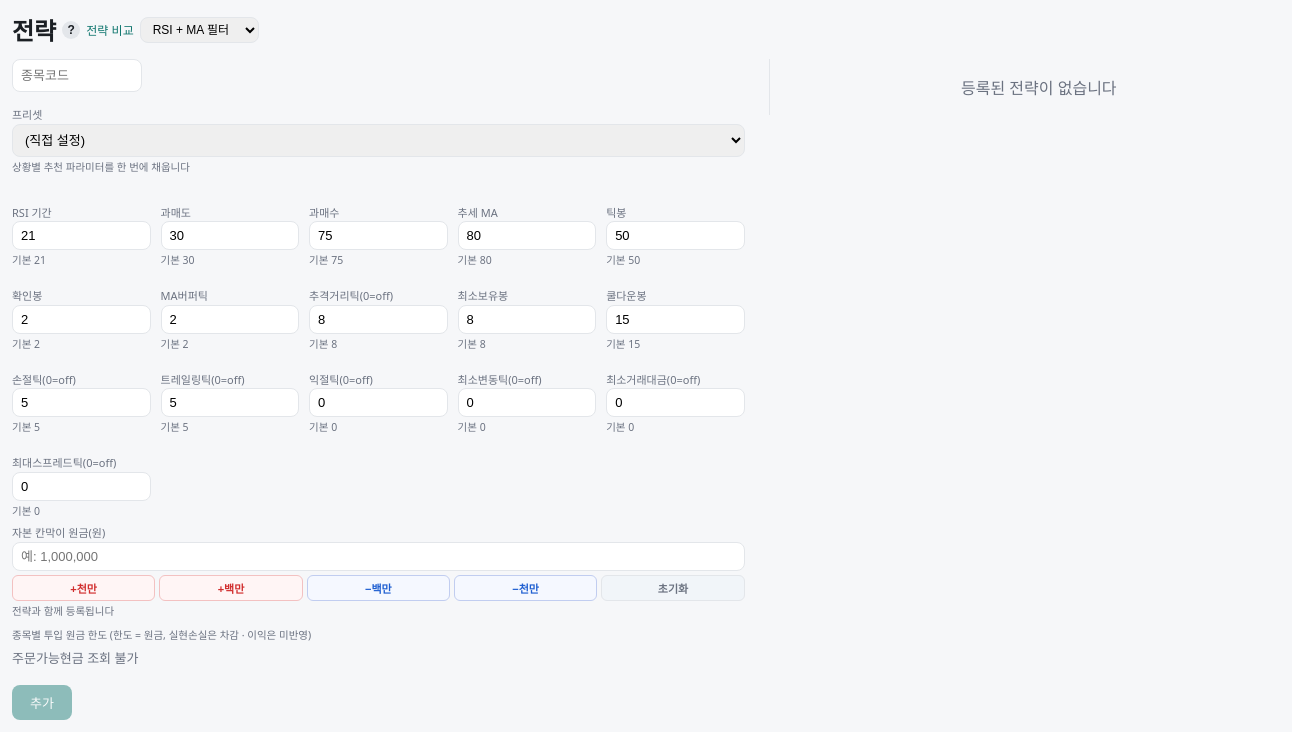
Test: StrategyPanel › 원금 ± 도움 버튼: +천만/−백만/초기화
This screenshot has width=1292, height=732.
Click the button "+천만" at (84, 588), box [12,574,155,600]
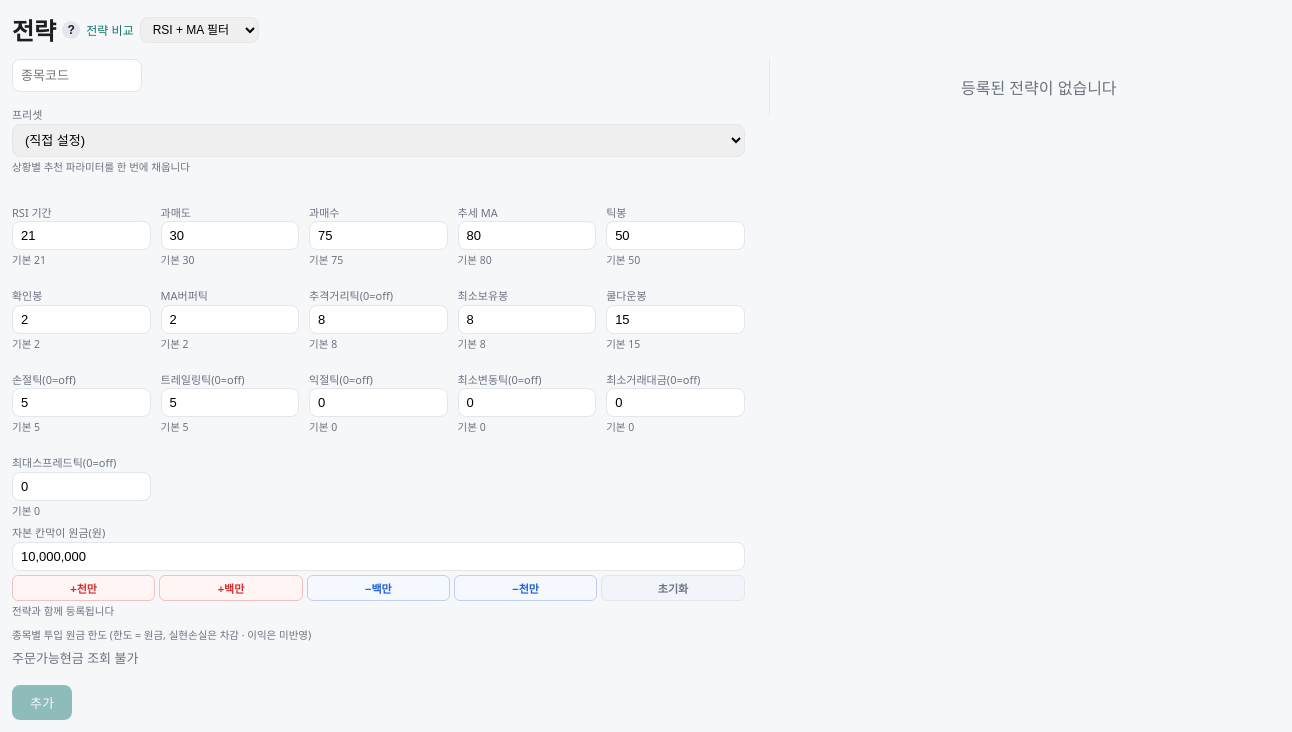
Expected: the field labelled "자본 칸막이 원금" holds "10,000,000", [12,542,745,570]
Click the button "+백만" at (231, 588), box [159,574,303,600]
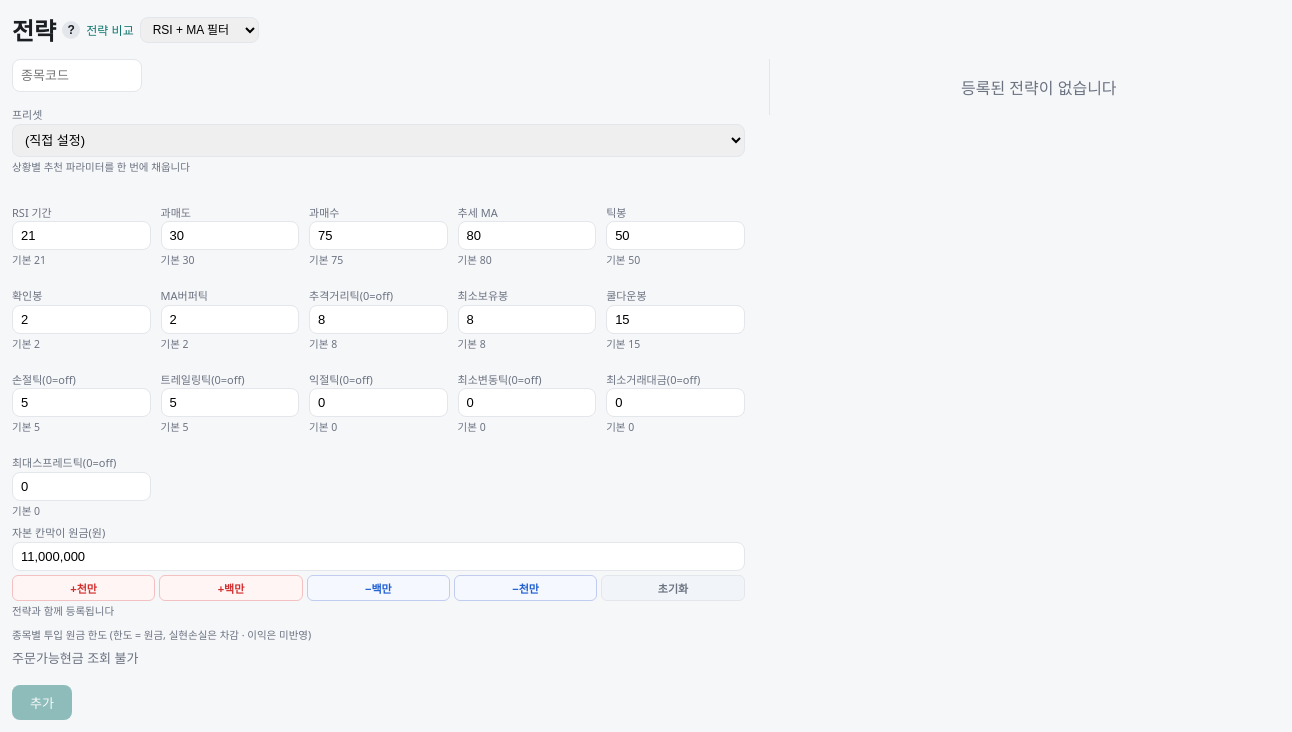
Expected: the field labelled "자본 칸막이 원금" holds "11,000,000", [12,542,745,570]
Click the button "−백만" at (378, 588), box [307,574,450,600]
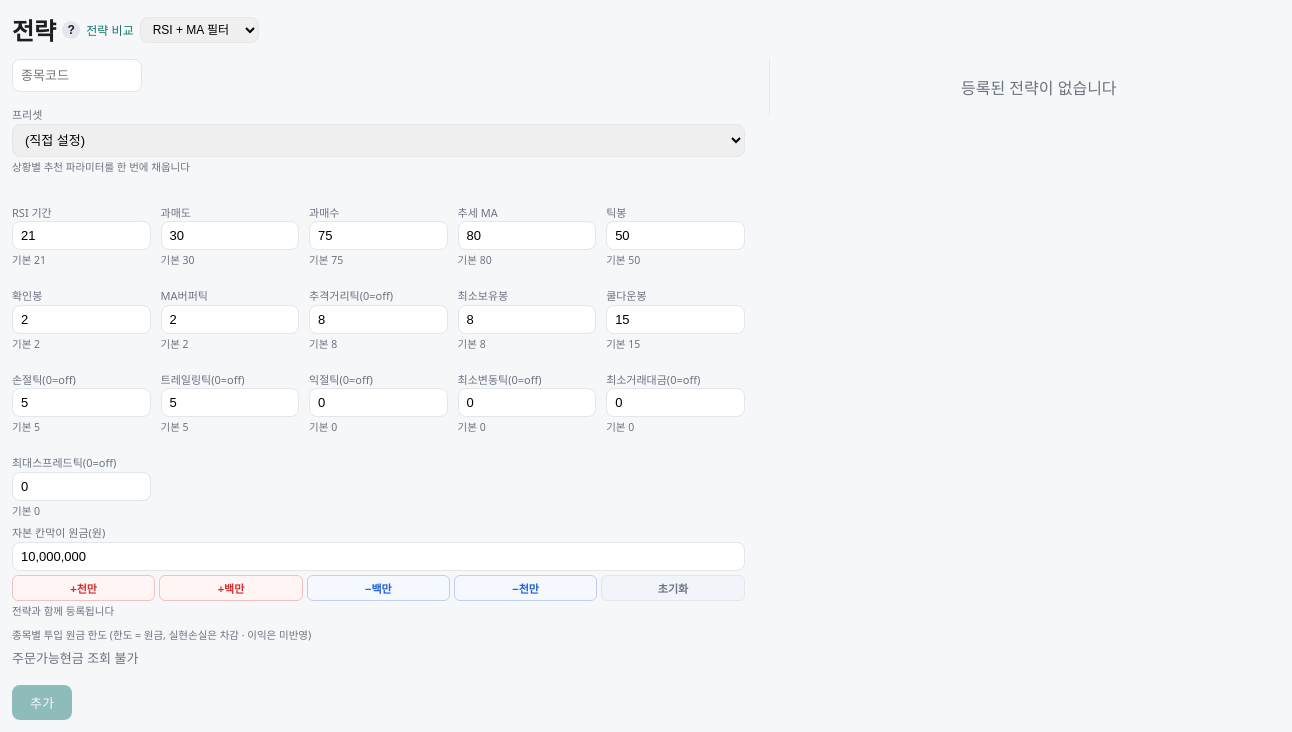
Expected: the field labelled "자본 칸막이 원금" holds "10,000,000", [12,542,745,570]
Click the button "초기화" at (673, 588), box [601,574,745,600]
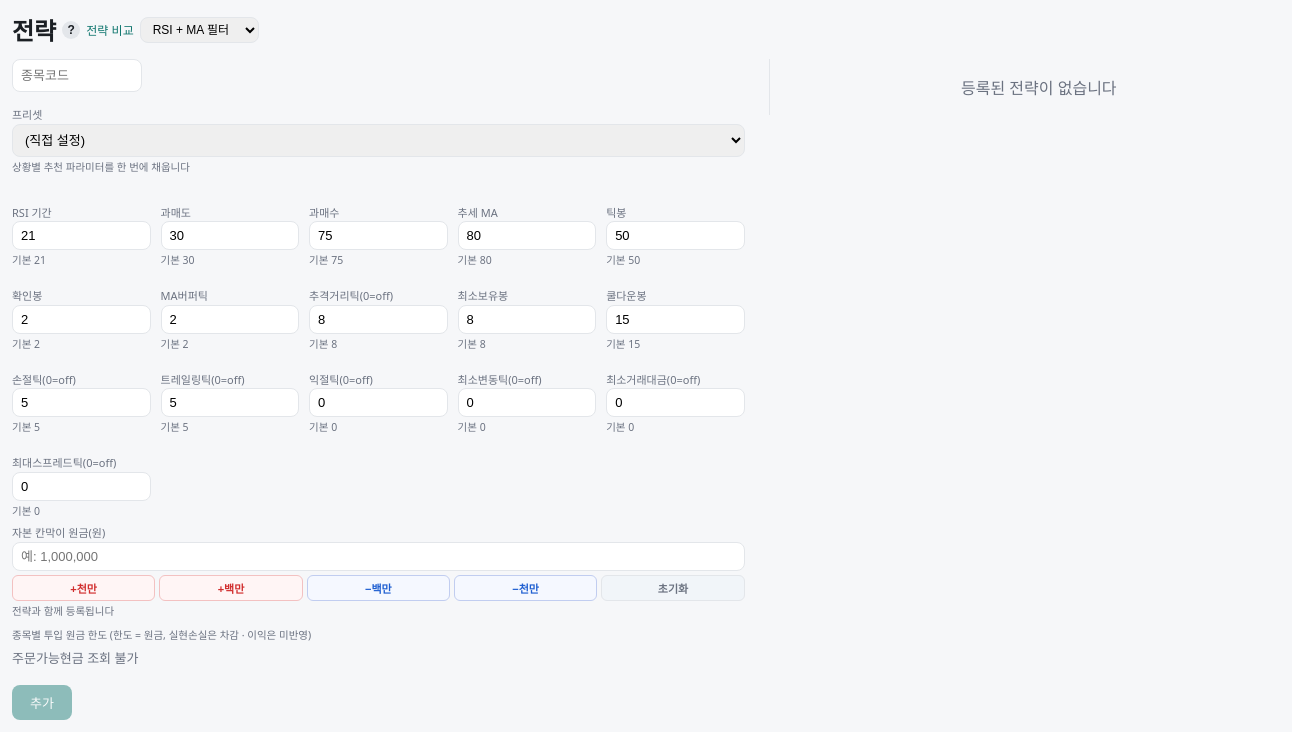
Expected: the field labelled "자본 칸막이 원금" is empty, [12,542,745,570]
Click the button "−천만" at (526, 588), box [454,574,597,600]
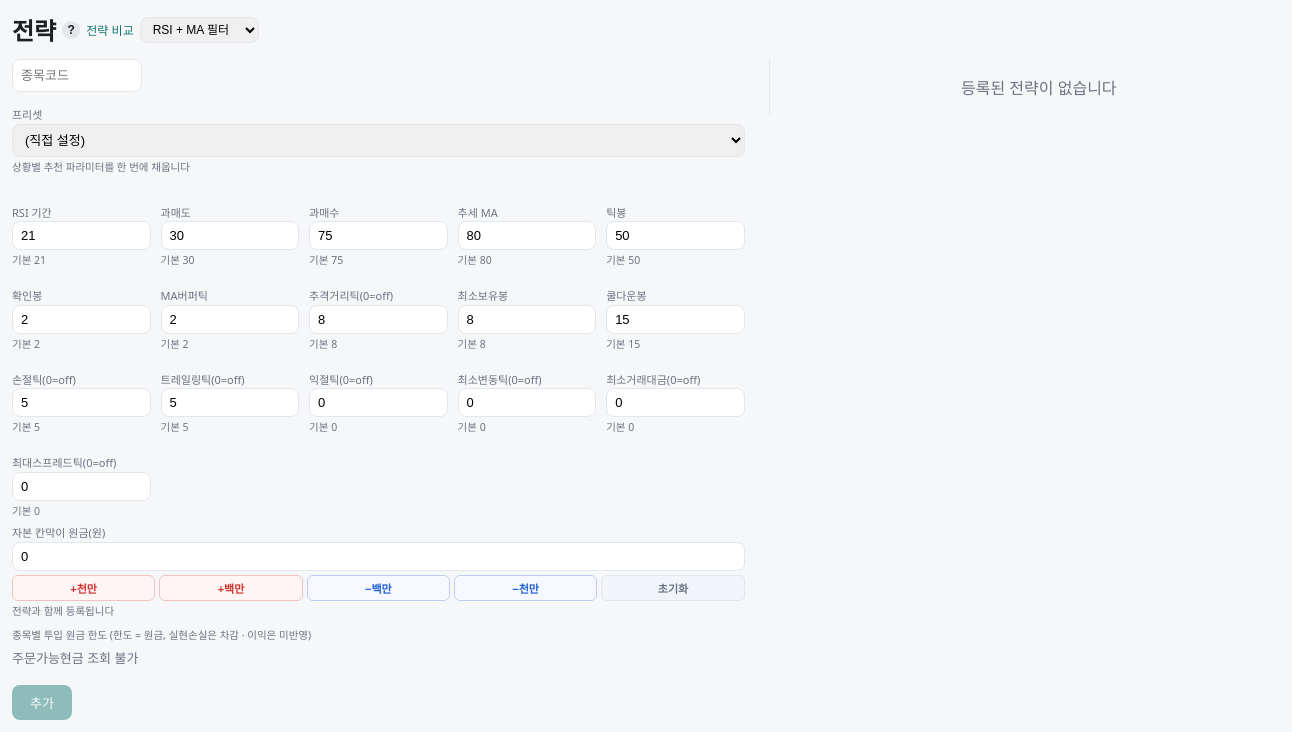
Expected: the field labelled "자본 칸막이 원금" holds "0", [12,542,745,570]
